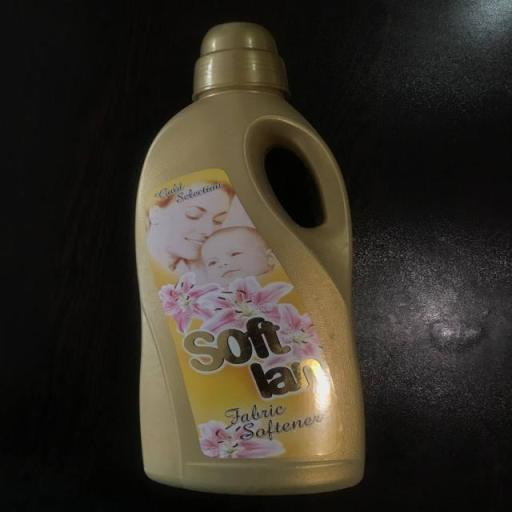plastic: (126, 18, 372, 498)
